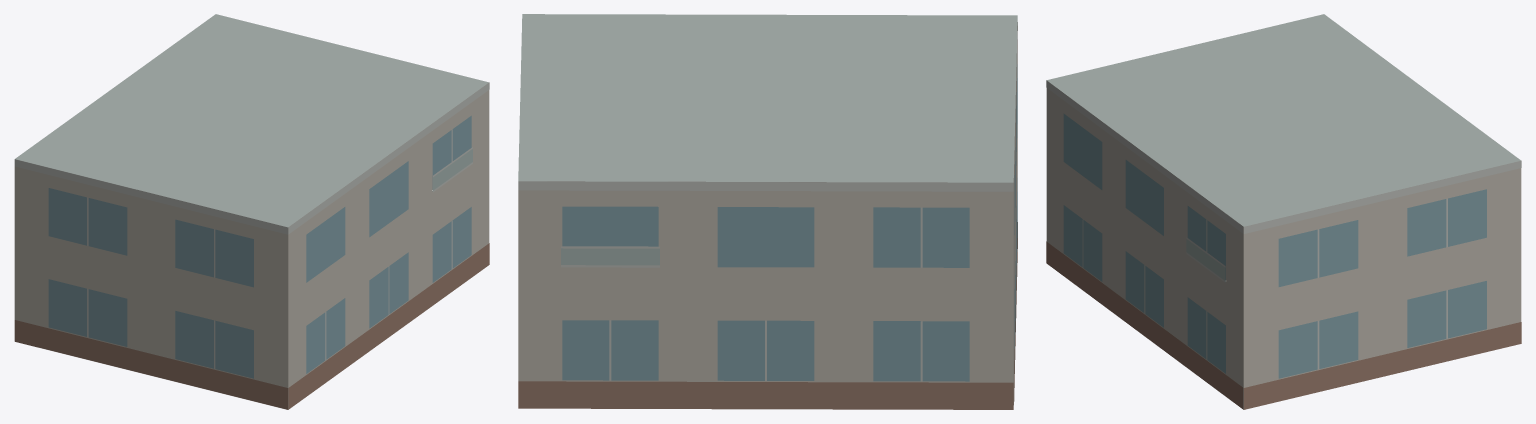
File: survey-upis-32721959.glb
3 views of the same model, side by side, from view 1: azimuth 30°, elevation 25°; view 2: azimuth 150°, elevation 25°; view 3: azimuth 270°, elevation 25° (orthographic). The views are drawn at different scales.
Parts seen in each view (by area): view 1: survey-upis-32721959.tmp; view 2: survey-upis-32721959.tmp; view 3: survey-upis-32721959.tmp.
Boxes of the visible parts, x1=… form: survey-upis-32721959.tmp: x1=14, y1=14, x2=489, y2=409; survey-upis-32721959.tmp: x1=518, y1=14, x2=1017, y2=409; survey-upis-32721959.tmp: x1=1046, y1=14, x2=1521, y2=409.
Bounding box in the file's own units: 15.22 × 6.1 × 14.36.
